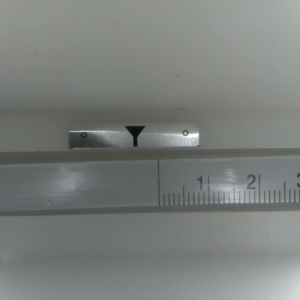1: (197, 176, 202, 190)
2: (245, 175, 255, 189)
3: (295, 172, 300, 188)
finger: (124, 126, 144, 146)
